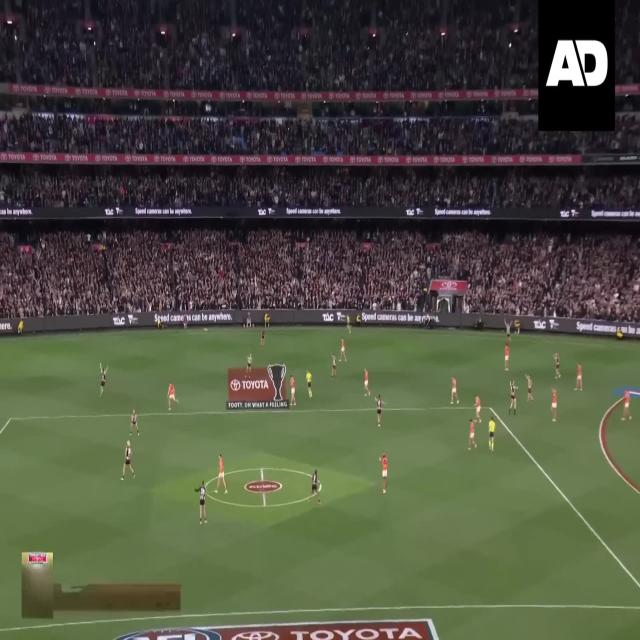crowd: (0, 227, 640, 320), (2, 0, 538, 90), (1, 94, 640, 151), (1, 164, 640, 208), (616, 1, 640, 86)
